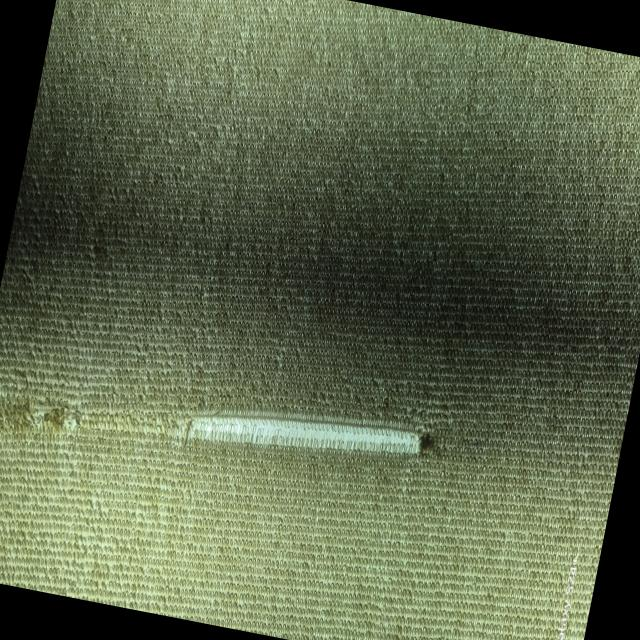Warp_Weft: (24, 347, 444, 506)
